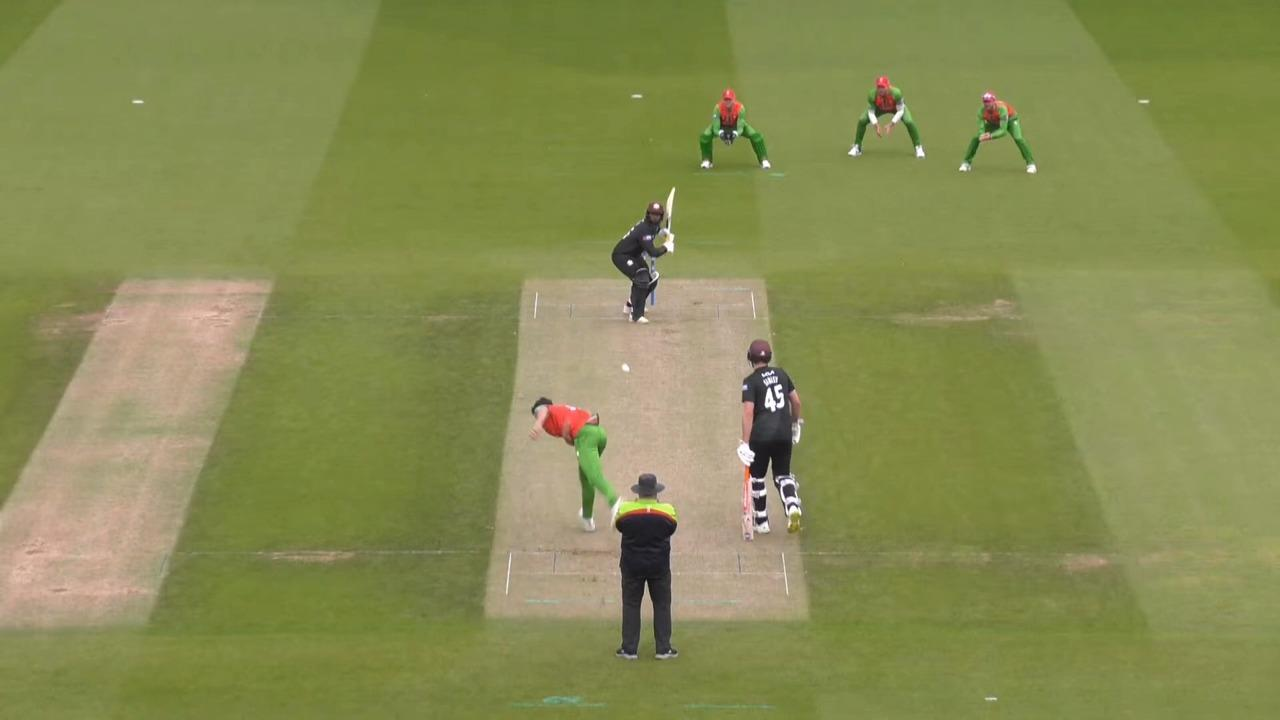sports ball: (622, 364, 629, 371)
